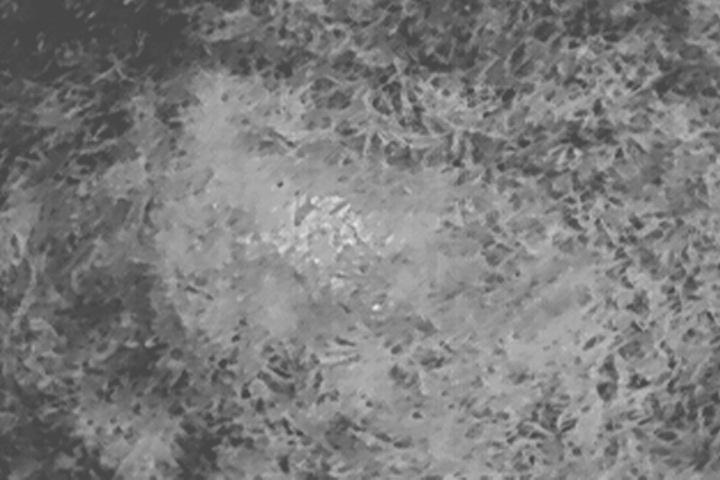landmine: (269, 191, 397, 286)
